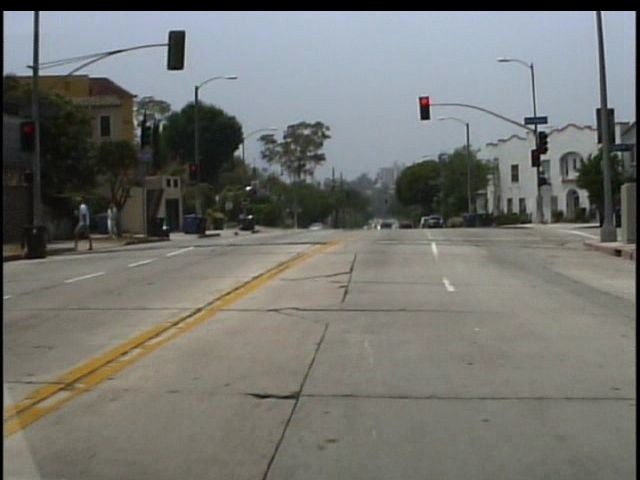person: (75, 193, 100, 250), (111, 202, 126, 242)
